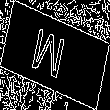M_S: (35, 24, 75, 86)
